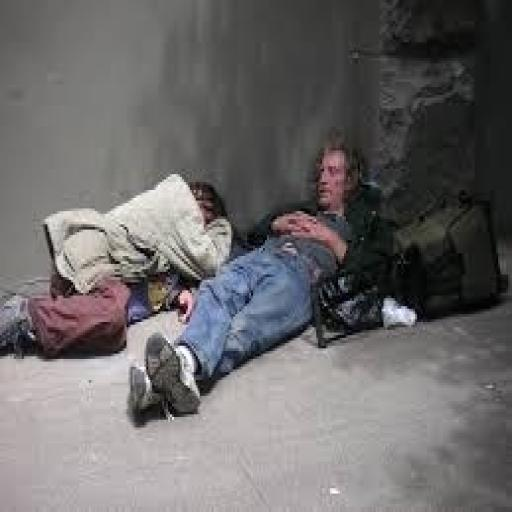sleeping: (124, 132, 386, 428)
